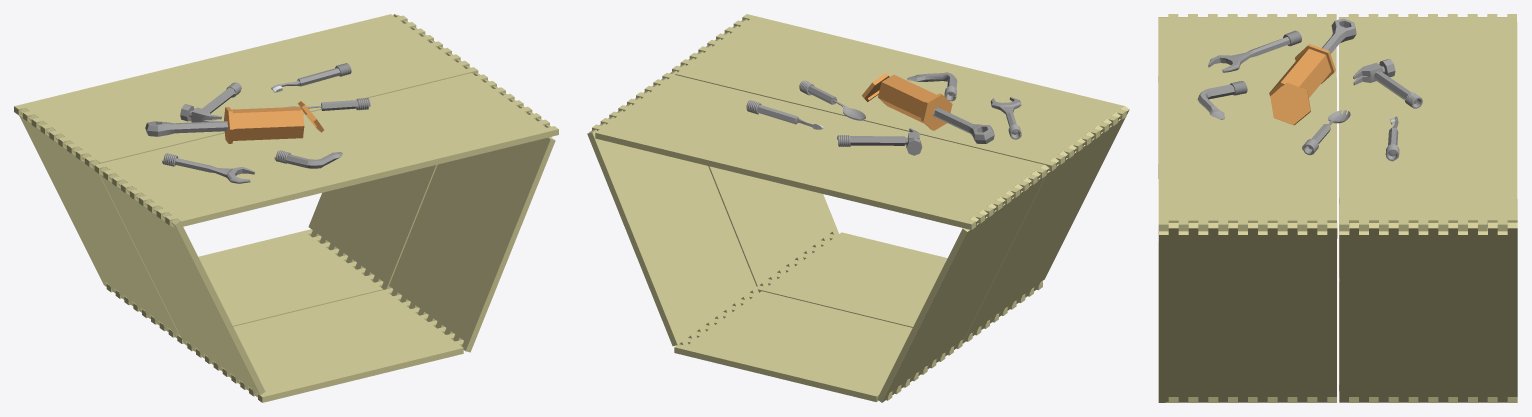
File: tool.glb
The picture shows the model from 3 angles, left to right: view 1: azimuth 30°, elevation 25°; view 2: azimuth 150°, elevation 25°; view 3: azimuth 270°, elevation 25°; orthographic projection. The views are drawn at different scales.
Bounding box in the file's own units: 57.38 × 33.39 × 41.29.
